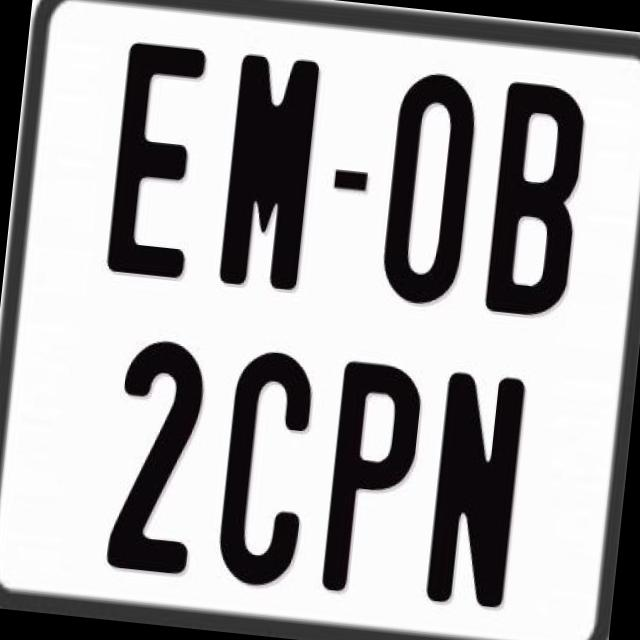0: (375, 67, 477, 306)
2: (104, 332, 212, 578)
B: (484, 78, 592, 322)
C: (213, 343, 320, 584)
E: (104, 36, 214, 280)
M: (218, 52, 328, 291)
N: (424, 366, 532, 610)
P: (316, 359, 428, 606)
